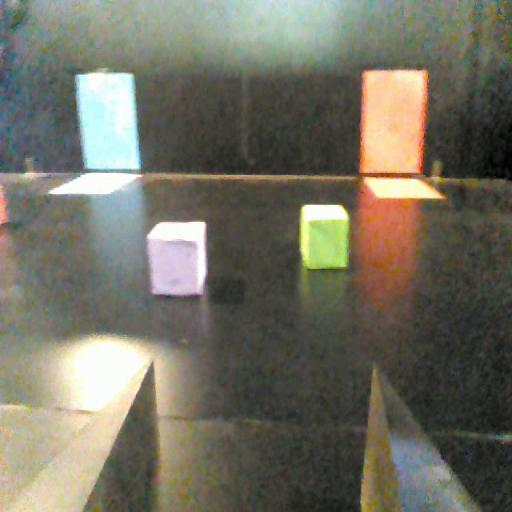cube: (142, 218, 210, 305), (296, 202, 353, 275)
